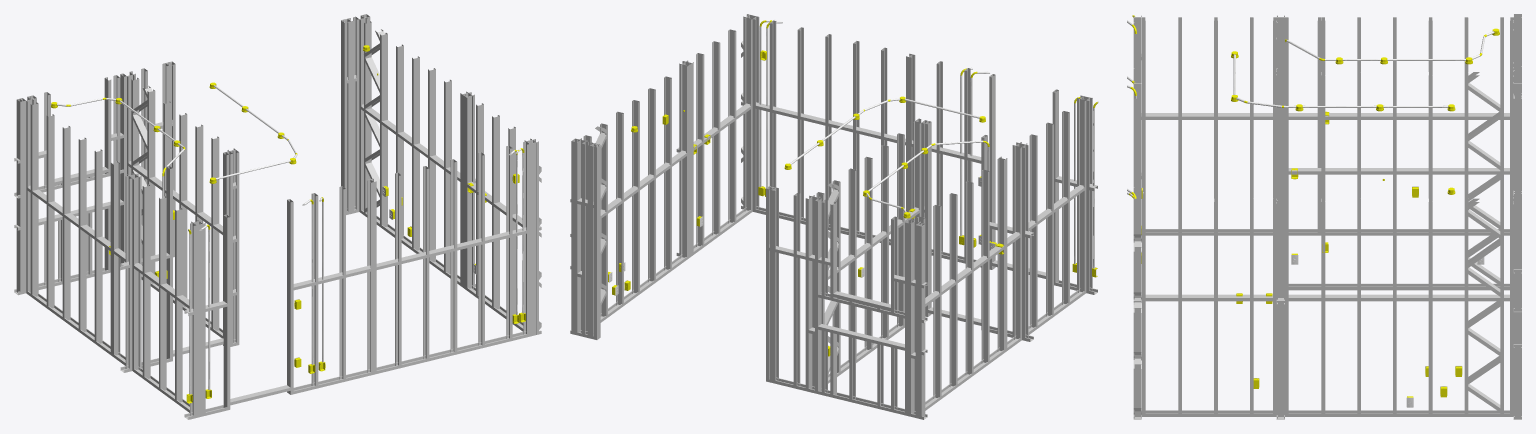
The model's file is suite-bela.glb.
3 views of the same model, side by side, from view 1: azimuth 30°, elevation 25°; view 2: azimuth 150°, elevation 25°; view 3: azimuth 270°, elevation 25° (orthographic). The views are drawn at different scales.
Visible parts, largest first — view 1: DirectShape Modelos genéricos <300768 Componente#2182<, DirectShape Modelos genéricos <300761 Componente#2178<, DirectShape Modelos genéricos <300877 Componente#2187<, DirectShape Modelos genéricos <300760 Componente#2177<, DirectShape Modelos genéricos <300772 Componente#2172<, DirectShape Modelos genéricos <300816 Componente#2176<, DirectShape Modelos genéricos <300759 Componente#2174<, DirectShape Modelos genéricos <300777 Componente#2175<, DirectShape Modelos genéricos <300964 Componente#2360<, DirectShape Modelos genéricos <300833 Componente#2234<, DirectShape Modelos genéricos <300843 Componente#2227<, DirectShape Modelos genéricos <300781 Componente#2184< (+67 smaller); view 2: DirectShape Modelos genéricos <300985 Componente#2366<, DirectShape Modelos genéricos <300956 Componente#2370<, DirectShape Modelos genéricos <300876 Componente#2186<, DirectShape Modelos genéricos <300953 Componente#2367<, DirectShape Modelos genéricos <300824 Componente#2203<, DirectShape Modelos genéricos <300777 Componente#2175<, DirectShape Modelos genéricos <300816 Componente#2176<, DirectShape Modelos genéricos <300759 Componente#2174<, DirectShape Modelos genéricos <300760 Componente#2177<, DirectShape Modelos genéricos <300768 Componente#2182<, DirectShape Modelos genéricos <300804 Componente#2170<, DirectShape Modelos genéricos <300999 Componente#2364< (+62 smaller); view 3: DirectShape Modelos genéricos <300541 Componente#1874<, DirectShape Modelos genéricos <300971 Componente#2316<, DirectShape Modelos genéricos <301038 Componente#2395<, DirectShape Modelos genéricos <300829 Componente#2215<, DirectShape Modelos genéricos <300854 Componente#2198<, DirectShape Modelos genéricos <300875 Componente#2199<, DirectShape Modelos genéricos <300855 Componente#2214<, DirectShape Modelos genéricos <300801 Componente#2173<, DirectShape Modelos genéricos <300802 Componente#2169<, DirectShape Modelos genéricos <300907 Componente#2291<, DirectShape Modelos genéricos <300842 Componente#2223<, DirectShape Modelos genéricos <300865 Componente#2235< (+30 smaller).
Part boxes in pixels (bbox=[...]): DirectShape Modelos genéricos <300768 Componente#2182<: bbox=[142, 184, 150, 379]; DirectShape Modelos genéricos <300761 Componente#2178<: bbox=[112, 162, 120, 357]; DirectShape Modelos genéricos <300877 Componente#2187<: bbox=[132, 177, 140, 371]; DirectShape Modelos genéricos <300760 Componente#2177<: bbox=[94, 149, 102, 343]; DirectShape Modelos genéricos <300772 Componente#2172<: bbox=[30, 102, 38, 296]; DirectShape Modelos genéricos <300816 Componente#2176<: bbox=[78, 137, 86, 331]; DirectShape Modelos genéricos <300759 Componente#2174<: bbox=[46, 114, 54, 308]; DirectShape Modelos genéricos <300777 Componente#2175<: bbox=[62, 125, 70, 319]; DirectShape Modelos genéricos <300964 Componente#2360<: bbox=[465, 95, 473, 290]; DirectShape Modelos genéricos <300833 Componente#2234<: bbox=[211, 136, 219, 331]; DirectShape Modelos genéricos <300843 Componente#2227<: bbox=[412, 56, 419, 251]; DirectShape Modelos genéricos <300781 Componente#2184<: bbox=[159, 196, 166, 390]; DirectShape Modelos genéricos <300985 Componente#2366<: bbox=[712, 41, 720, 236]; DirectShape Modelos genéricos <300956 Componente#2370<: bbox=[728, 29, 736, 224]; DirectShape Modelos genéricos <300876 Componente#2186<: bbox=[1078, 99, 1086, 293]; DirectShape Modelos genéricos <300953 Componente#2367<: bbox=[744, 17, 752, 212]; DirectShape Modelos genéricos <300824 Componente#2203<: bbox=[680, 64, 688, 259]; DirectShape Modelos genéricos <300777 Componente#2175<: bbox=[949, 193, 957, 386]; DirectShape Modelos genéricos <300816 Componente#2176<: bbox=[965, 181, 973, 374]; DirectShape Modelos genéricos <300759 Componente#2174<: bbox=[933, 205, 941, 398]; DirectShape Modelos genéricos <300760 Componente#2177<: bbox=[981, 169, 989, 363]; DirectShape Modelos genéricos <300768 Componente#2182<: bbox=[1029, 134, 1037, 329]; DirectShape Modelos genéricos <300804 Componente#2170<: bbox=[997, 158, 1005, 351]; DirectShape Modelos genéricos <300999 Componente#2364<: bbox=[696, 53, 704, 247]; DirectShape Modelos genéricos <300541 Componente#1874<: bbox=[1513, 203, 1521, 419]; DirectShape Modelos genéricos <300971 Componente#2316<: bbox=[1276, 202, 1284, 418]; DirectShape Modelos genéricos <301038 Componente#2395<: bbox=[1133, 202, 1141, 418]; DirectShape Modelos genéricos <300829 Componente#2215<: bbox=[1288, 294, 1509, 301]; DirectShape Modelos genéricos <300854 Componente#2198<: bbox=[1288, 283, 1509, 290]; DirectShape Modelos genéricos <300875 Componente#2199<: bbox=[1288, 410, 1509, 416]; DirectShape Modelos genéricos <300855 Componente#2214<: bbox=[1288, 168, 1509, 174]; DirectShape Modelos genéricos <300801 Componente#2173<: bbox=[1325, 113, 1509, 119]; DirectShape Modelos genéricos <300802 Componente#2169<: bbox=[1325, 229, 1509, 235]; DirectShape Modelos genéricos <300907 Componente#2291<: bbox=[1276, 74, 1284, 198]; DirectShape Modelos genéricos <300842 Componente#2223<: bbox=[1428, 198, 1432, 416]; DirectShape Modelos genéricos <300865 Componente#2235<: bbox=[1321, 198, 1325, 416].
Size of the model in its own units: 5.09 by 2.65 by 4.42.
